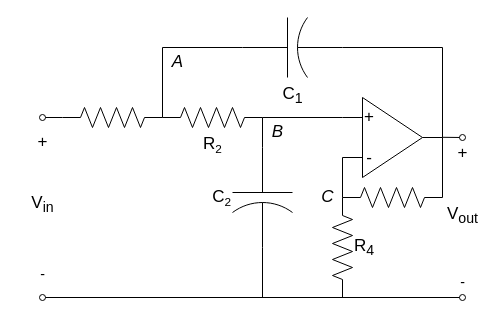
Some shapes in this 504 by 324 pixel diagram are drawn without their labels. The shapes that lost their labels are listed below. From the top down, each one's centre as x and y in pixels, then its label:
At point (112, 117): "R 1".
At point (392, 197): "R 3".
